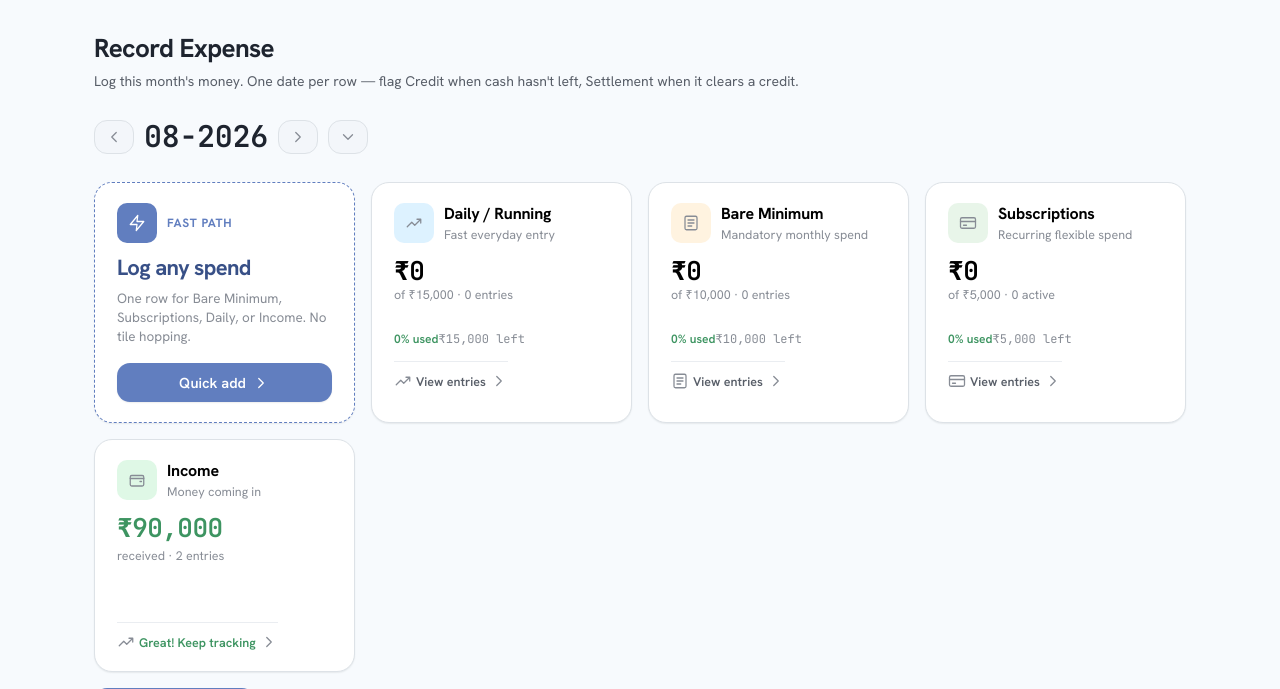
Test: RecordPage income activity › separates normal income from sent-to-reserves activity
The width and height of the screenshot is (1280, 689).
Click the text "Income".
click(193, 471)  # box x1=167 y1=460 x2=219 y2=482
(page scrolled)
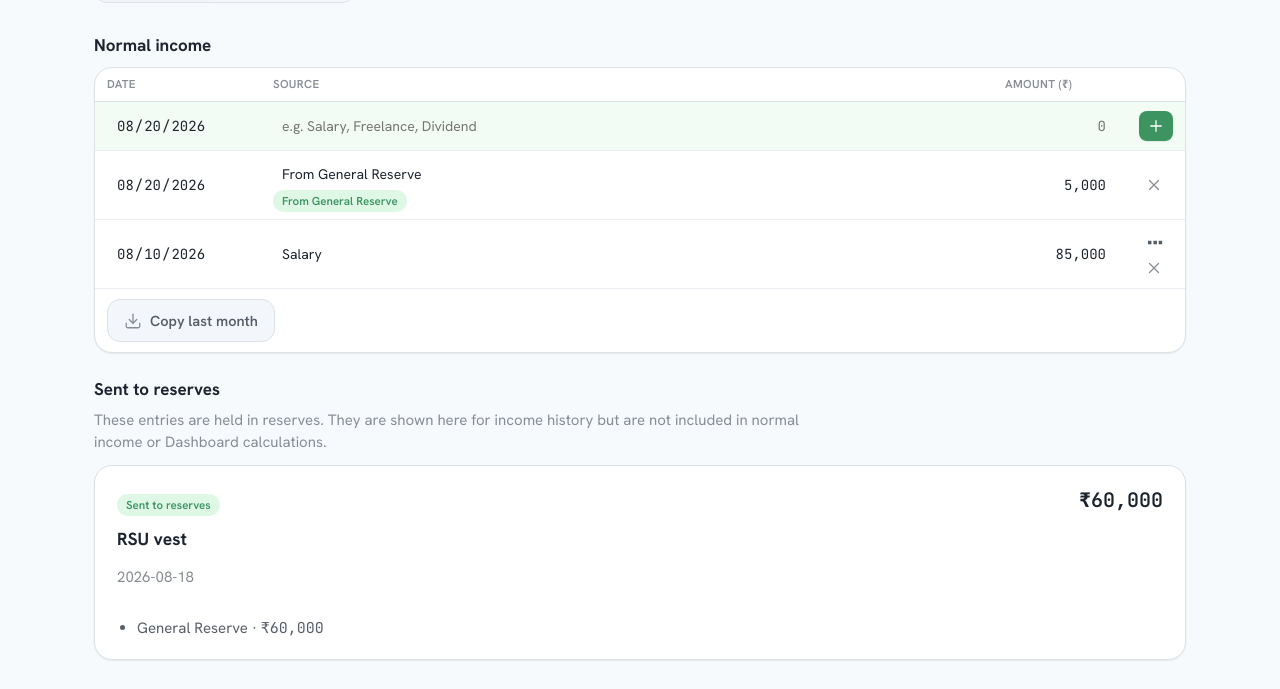
Now the text "From General Reserve" is shown, box x1=273 y1=190 x2=407 y2=212
Now the heading "Sent to reserves" is shown, box x1=94 y1=378 x2=220 y2=400
Now the text "not included in normal income or Dashboard calculations" is shown, box x1=94 y1=410 x2=799 y2=452
